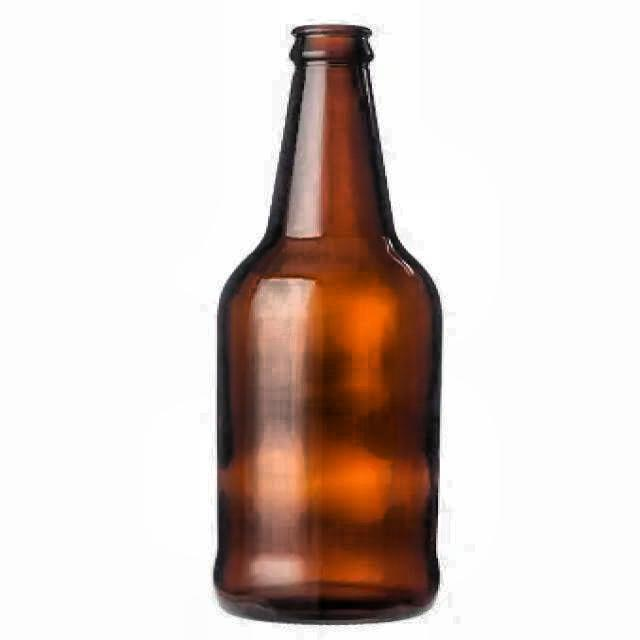glass: (212, 24, 444, 624)
